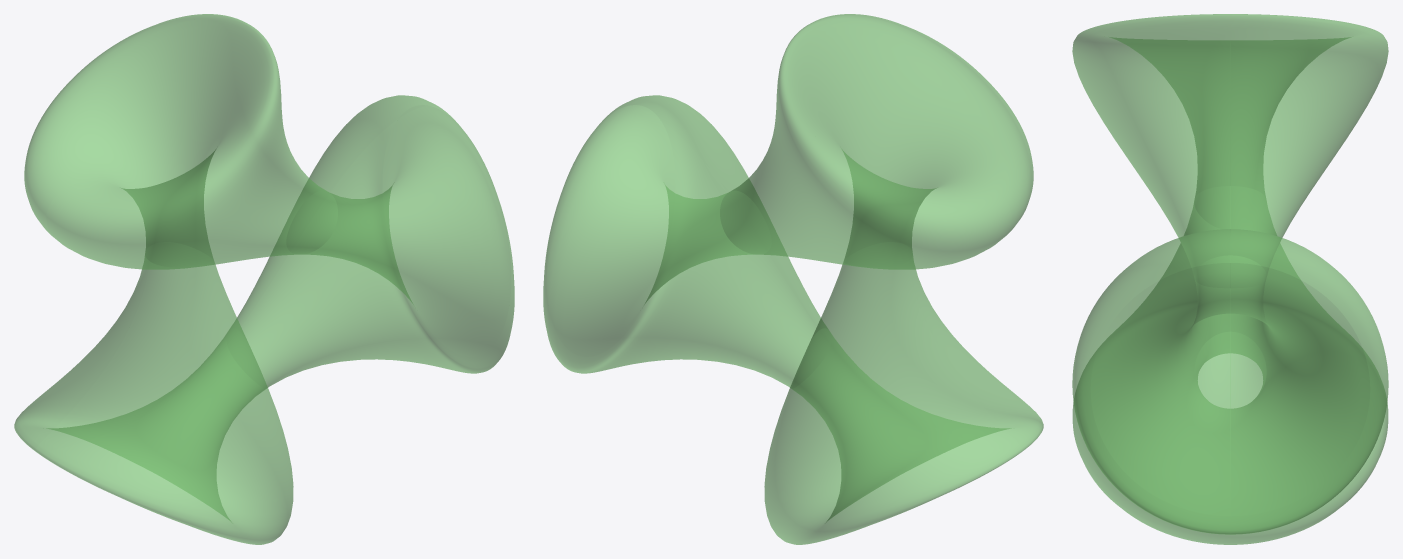
3 renders of one model, left to right at view 1: azimuth 30°, elevation 25°; view 2: azimuth 150°, elevation 25°; view 3: azimuth 270°, elevation 25°, orthographic. The views are drawn at different scales.
Parts seen in each view (by area): view 1: jeener_2; view 2: jeener_2; view 3: jeener_2.
Part boxes in pixels (x1,y1,x2,y2): jeener_2: [14, 14, 514, 544]; jeener_2: [543, 14, 1043, 544]; jeener_2: [1072, 14, 1388, 544].
Bounding box in the file's own units: 1.44 × 1.62 × 0.8717.
